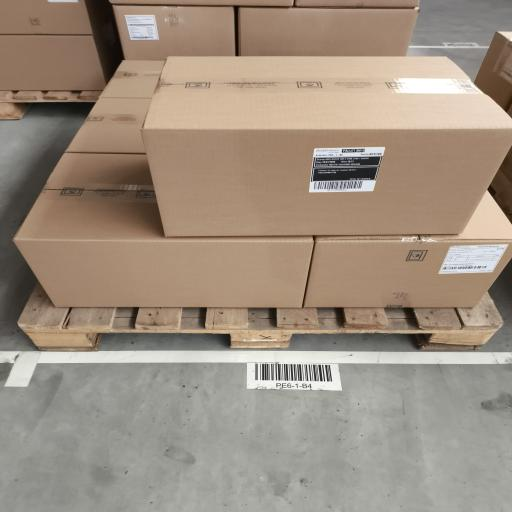pallet: (19, 284, 502, 350), (0, 91, 101, 119), (489, 171, 511, 221)
